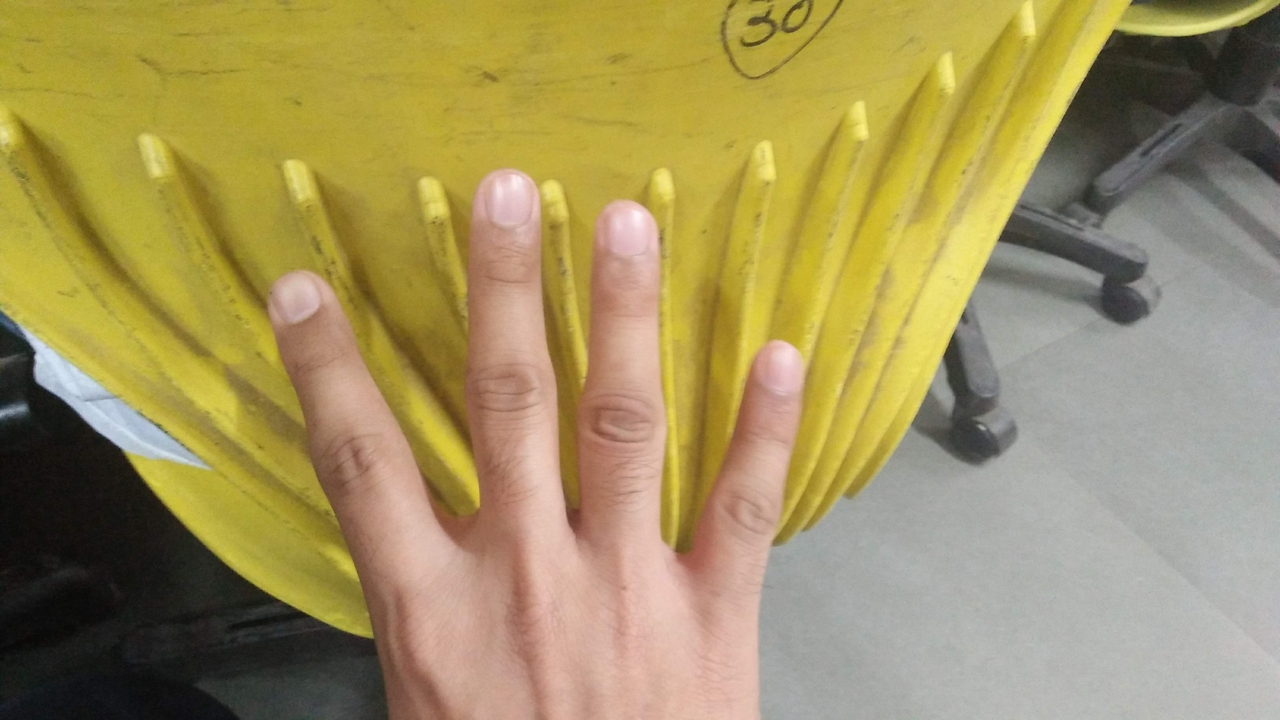fingertip: (584, 190, 658, 266), (260, 266, 332, 338), (466, 166, 542, 234), (748, 334, 808, 406)
